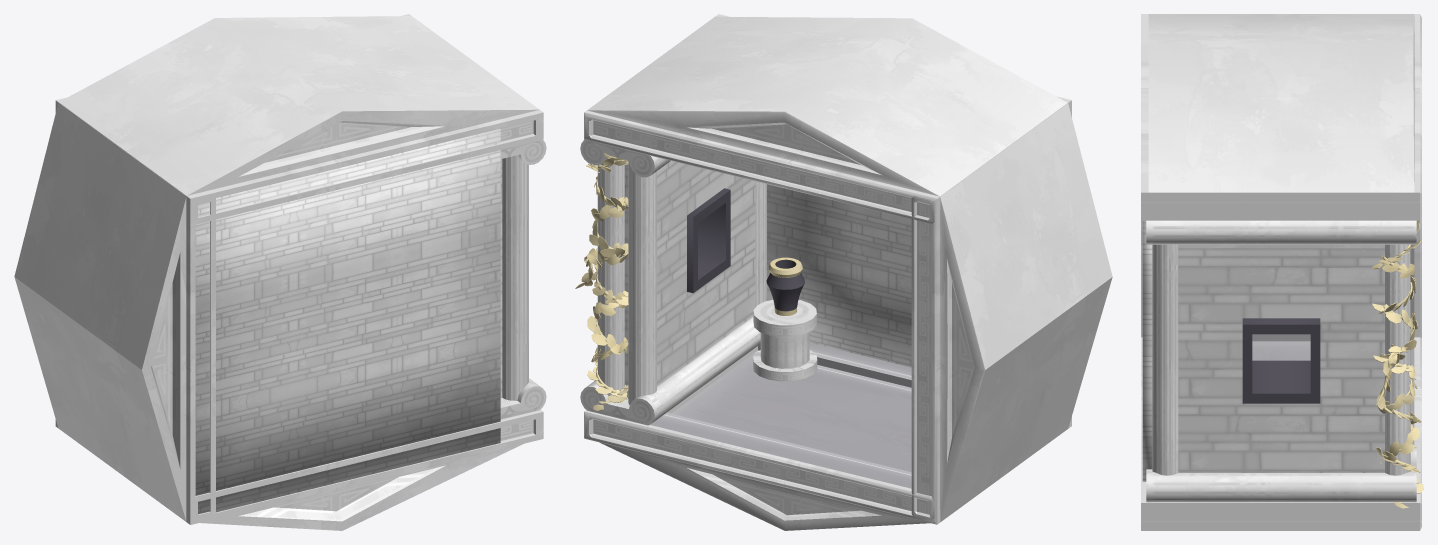
Rendered from UpperRightCornerRoom.fbx.
3 views of the same model, side by side, from view 1: azimuth 30°, elevation 25°; view 2: azimuth 150°, elevation 25°; view 3: azimuth 270°, elevation 25° (orthographic). The views are drawn at different scales.
Visible parts, largest first — view 1: Plane.012; view 2: Plane.012; view 3: Plane.012.
Boxes of the visible parts, x1,y1,x2,y2 form: Plane.012: (14,14,546,530); Plane.012: (575,14,1112,530); Plane.012: (1141,14,1423,530).
Bounding box in the file's own units: 5745 × 5421 × 3196.
2 materials, 2 textured.
